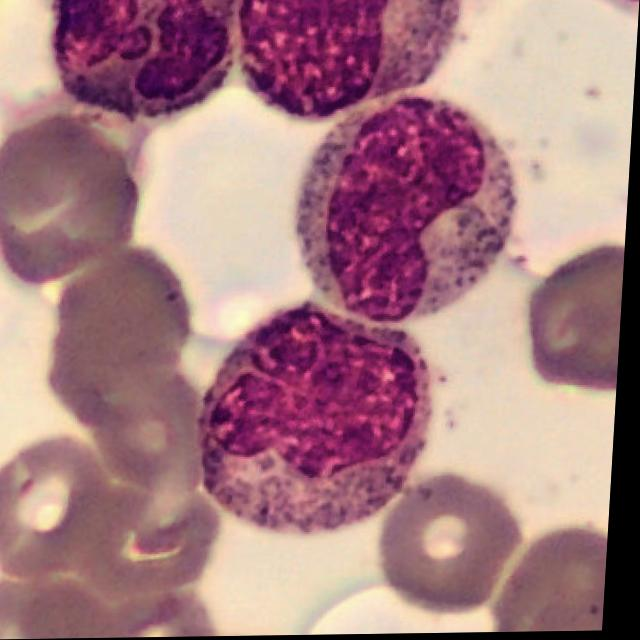Metamielocito: (294, 89, 514, 325)
Neutrofilo segmentado: (202, 305, 440, 541)
